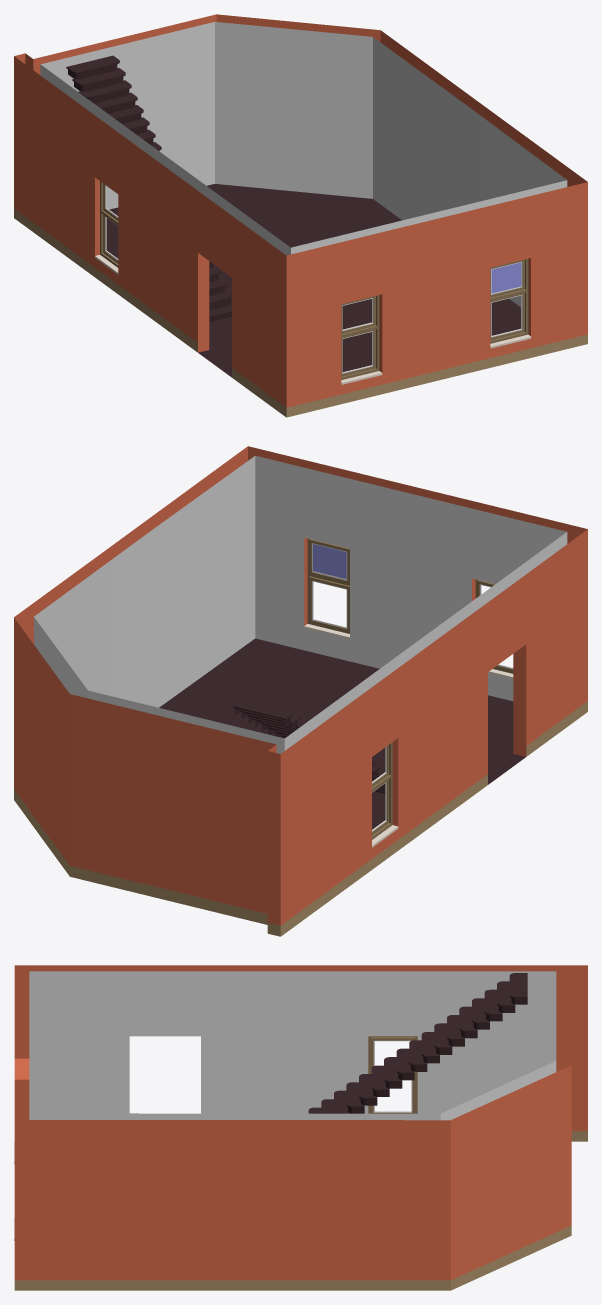
File: SleepOutFL1.fbx
3 views of the same model, one above another, from view 1: azimuth 30°, elevation 25°; view 2: azimuth 150°, elevation 25°; view 3: azimuth 270°, elevation 25° (orthographic). The views are drawn at different scales.
Parts seen in each view (by area): view 1: SleepOutFL1; view 2: SleepOutFL1; view 3: SleepOutFL1.
Part boxes in pixels (<box>): SleepOutFL1: <box>14,14,587,417</box>; SleepOutFL1: <box>14,446,587,936</box>; SleepOutFL1: <box>14,965,587,1290</box>.
Bounding box in the file's own units: 6.66 × 3.51 × 10.43.
